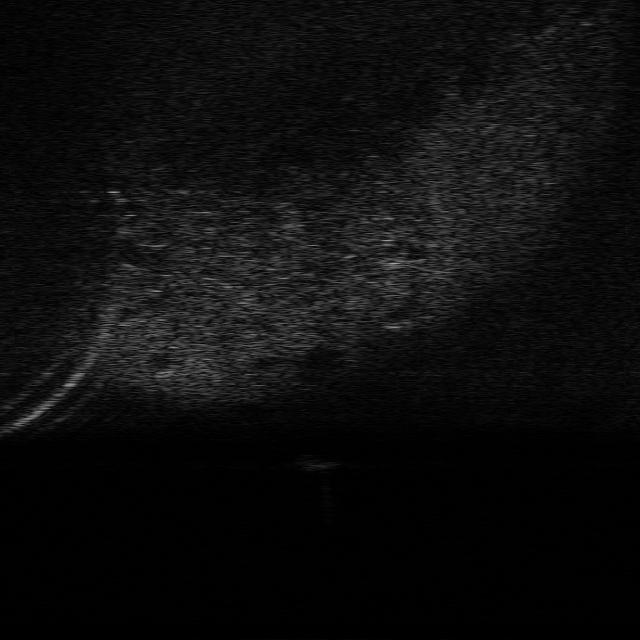cube: (298, 449, 342, 472)
